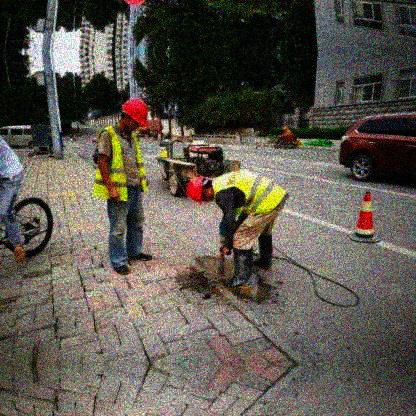helmet: (116, 98, 150, 134), (185, 172, 213, 208)
